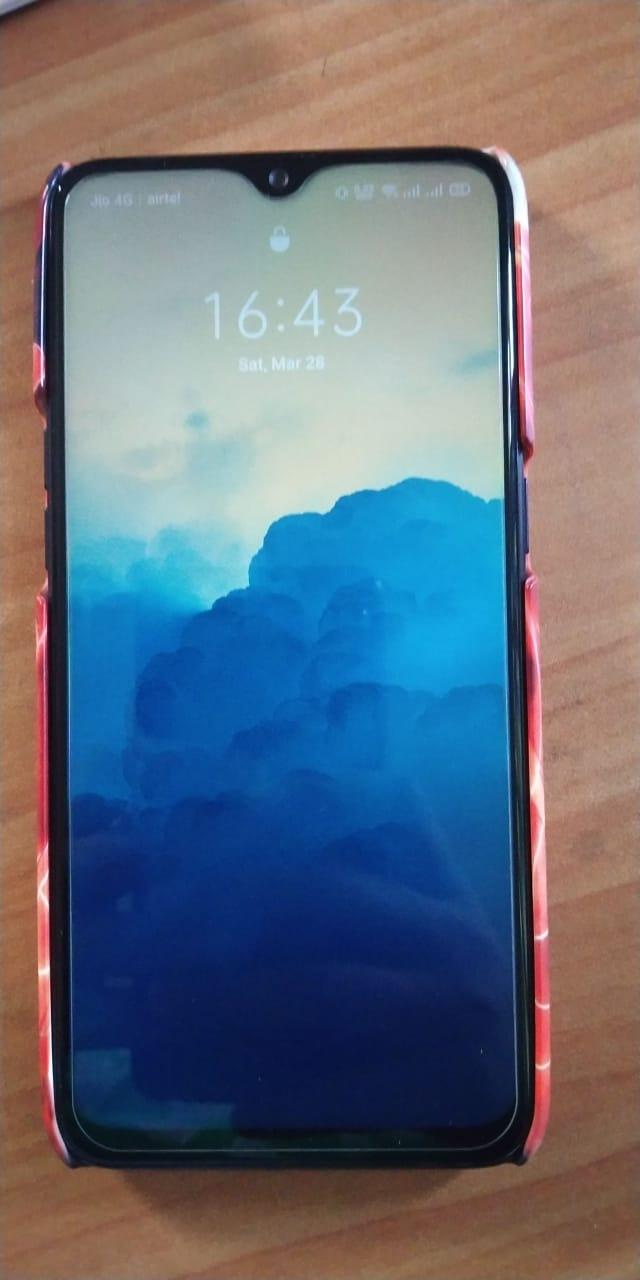Phone: (26, 123, 577, 1196)
